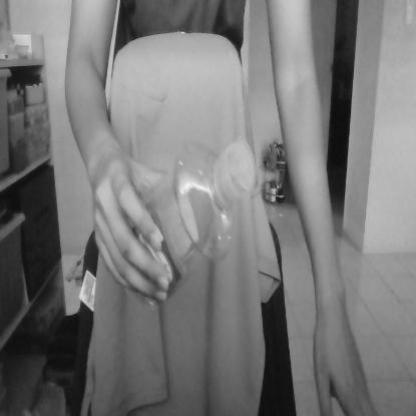Plastic Bottle: (119, 137, 263, 317)
